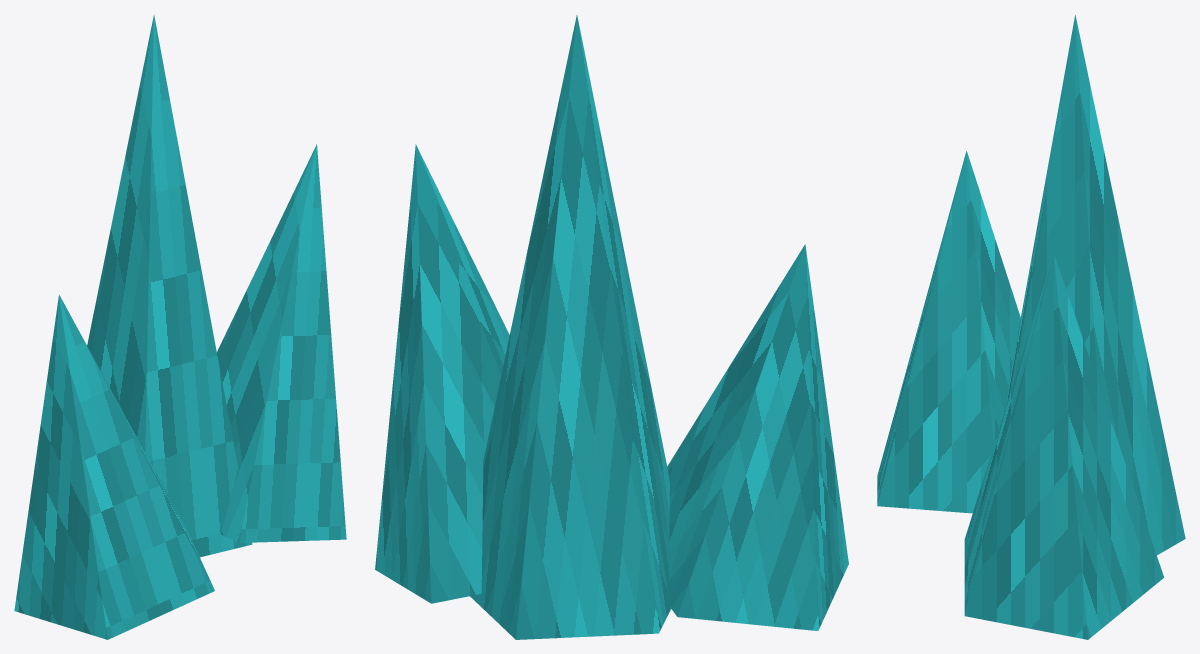
The model's file is crystal_11.glb.
3 renders of one model, left to right at view 1: azimuth 30°, elevation 25°; view 2: azimuth 150°, elevation 25°; view 3: azimuth 270°, elevation 25°, orthographic. The views are drawn at different scales.
Parts seen in each view (by area): view 1: Jade.001, Jade, Jade.002; view 2: Jade.001, Jade, Jade.002; view 3: Jade.002, Jade, Jade.001.
Boxes of the visible parts, x1,y1,x2,y2 form: Jade.001: [87, 14, 252, 557]; Jade: [14, 294, 214, 639]; Jade.002: [217, 144, 346, 542]; Jade.001: [470, 15, 670, 639]; Jade: [667, 244, 848, 630]; Jade.002: [375, 144, 509, 603]; Jade.002: [964, 254, 1163, 639]; Jade: [877, 151, 1020, 513]; Jade.001: [1003, 15, 1185, 555].
Size of the model in its own units: 0.8209 by 1.19 by 0.6149.
1 material, 1 textured.
